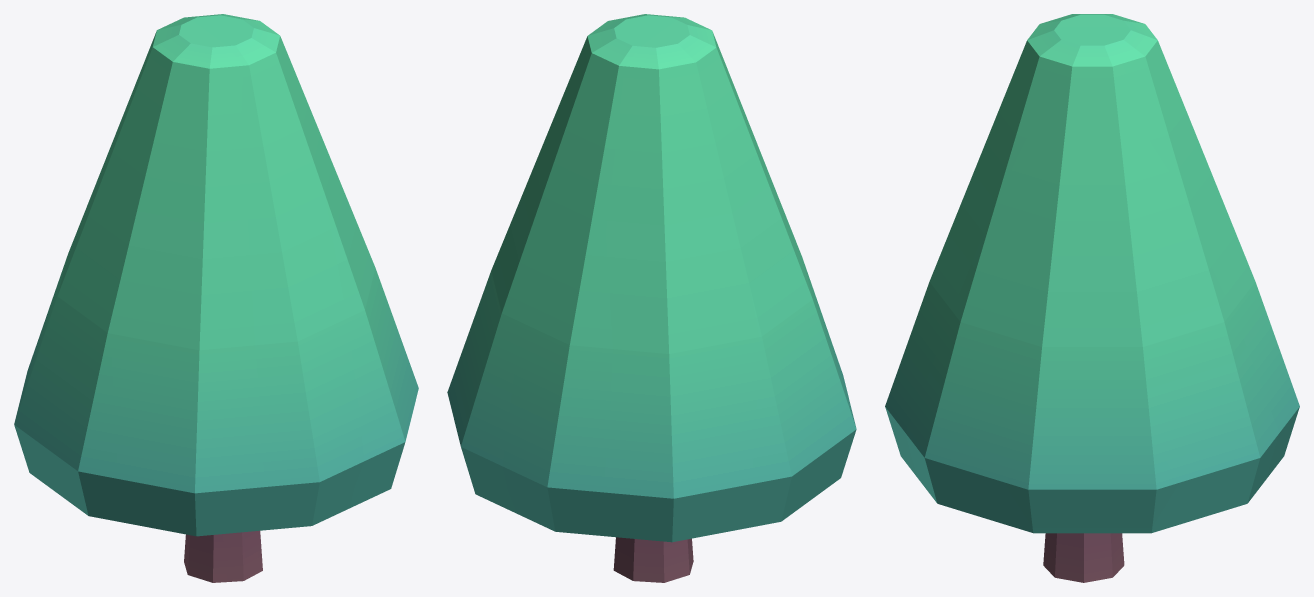
File: bush005.obj
3 renders of one model, left to right at view 1: azimuth 30°, elevation 25°; view 2: azimuth 150°, elevation 25°; view 3: azimuth 270°, elevation 25°, orthographic.
Visible parts, largest first — view 1: bush.005; view 2: bush.005; view 3: bush.005.
Boxes of the visible parts, x1,y1,x2,y2 form: bush.005: [14, 14, 418, 582]; bush.005: [447, 14, 856, 582]; bush.005: [885, 14, 1299, 582].
Size of the model in its own units: 2.84 by 4.25 by 2.99.
1 material, 1 textured.
